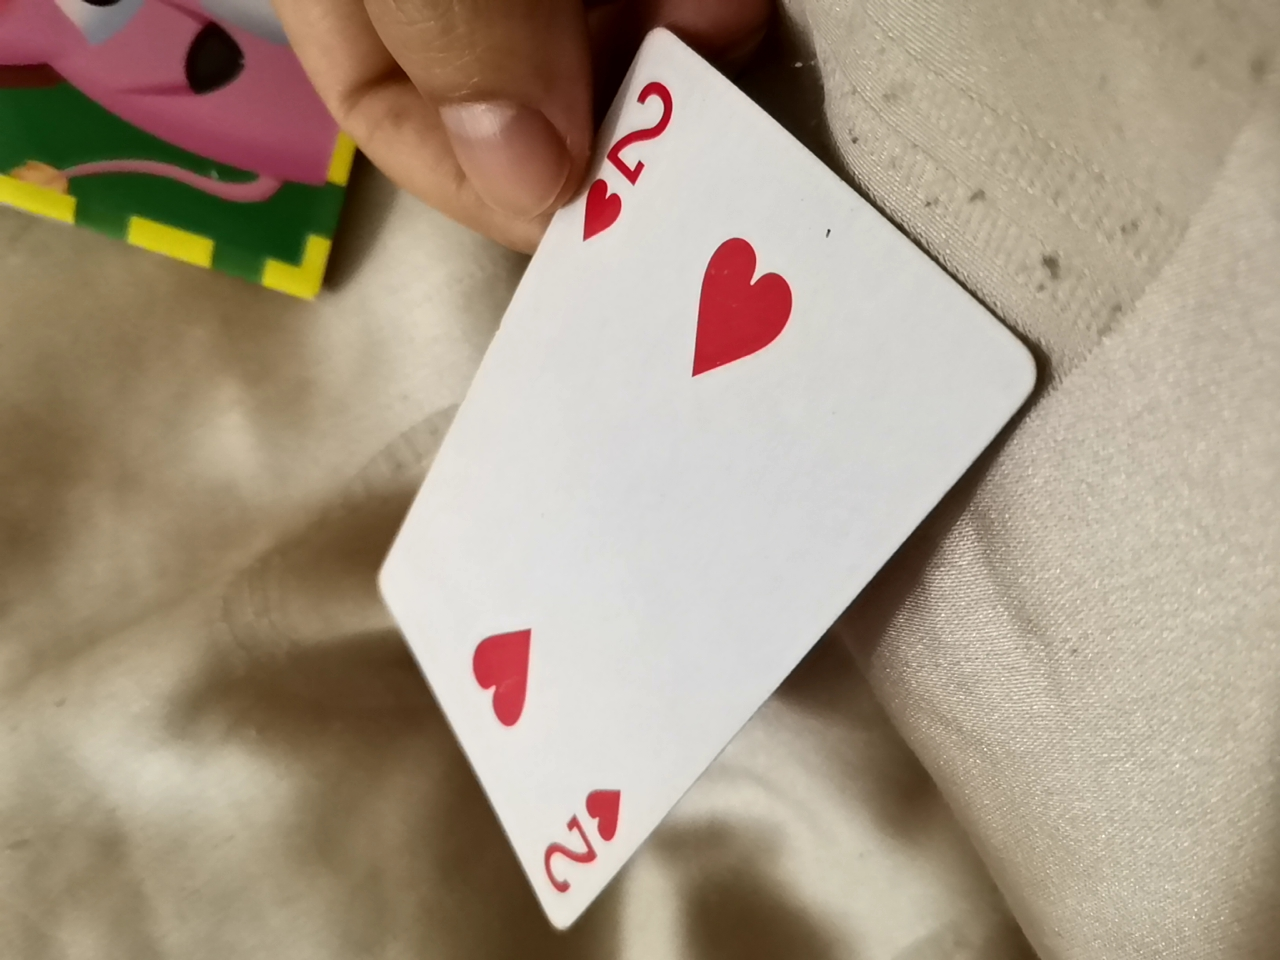hx 2: (330, 28, 1042, 929)
